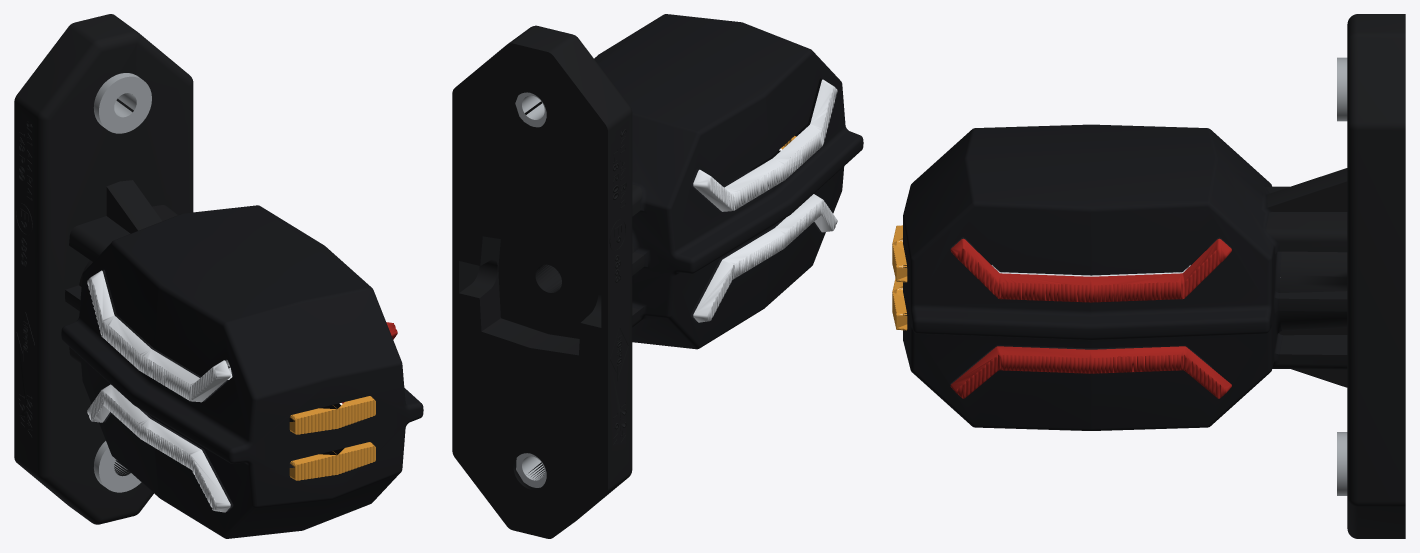
File: lamp-ld3065.glb
The picture shows the model from 3 angles, left to right: view 1: azimuth 30°, elevation 25°; view 2: azimuth 150°, elevation 25°; view 3: azimuth 270°, elevation 25°; orthographic projection. The views are drawn at different scales.
Parts seen in each view (by area): view 1: BODY, EMIT.outline; view 2: BODY, EMIT.outline; view 3: BODY, EMIT.outline.
Boxes of the visible parts, box(x1,y1,x2,y2) form: BODY: box(14, 14, 423, 538); EMIT.outline: box(87, 270, 397, 512); BODY: box(452, 14, 863, 538); EMIT.outline: box(693, 79, 837, 322); BODY: box(903, 14, 1405, 538); EMIT.outline: box(892, 225, 1231, 398).
Size of the model in its own units: 0.0501 by 0.1053 by 0.0969.
